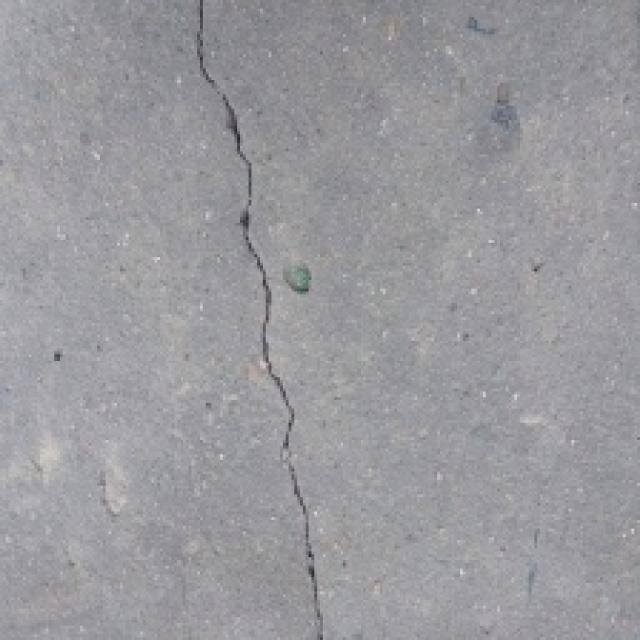crack: (174, 0, 344, 640)
